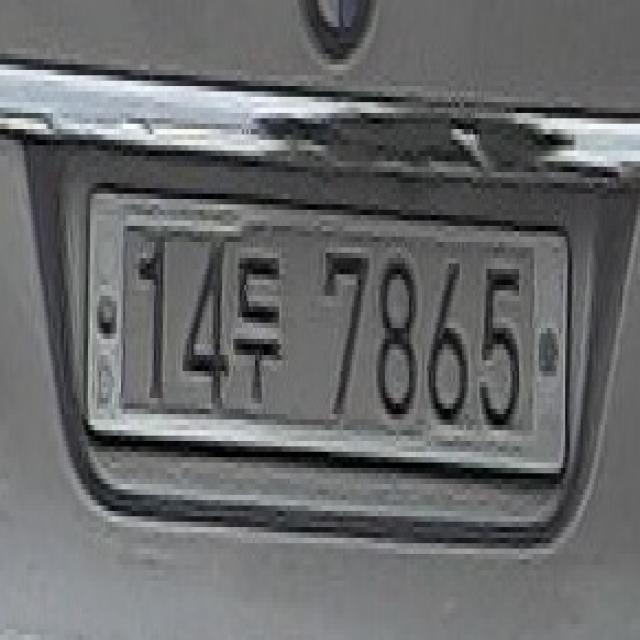1: (136, 220, 172, 420)
4: (178, 231, 231, 425)
5: (477, 247, 521, 441)
6: (427, 242, 473, 441)
7: (319, 237, 372, 436)
8: (374, 237, 422, 436)
du: (231, 242, 288, 425)
license_plate: (81, 172, 572, 495)
